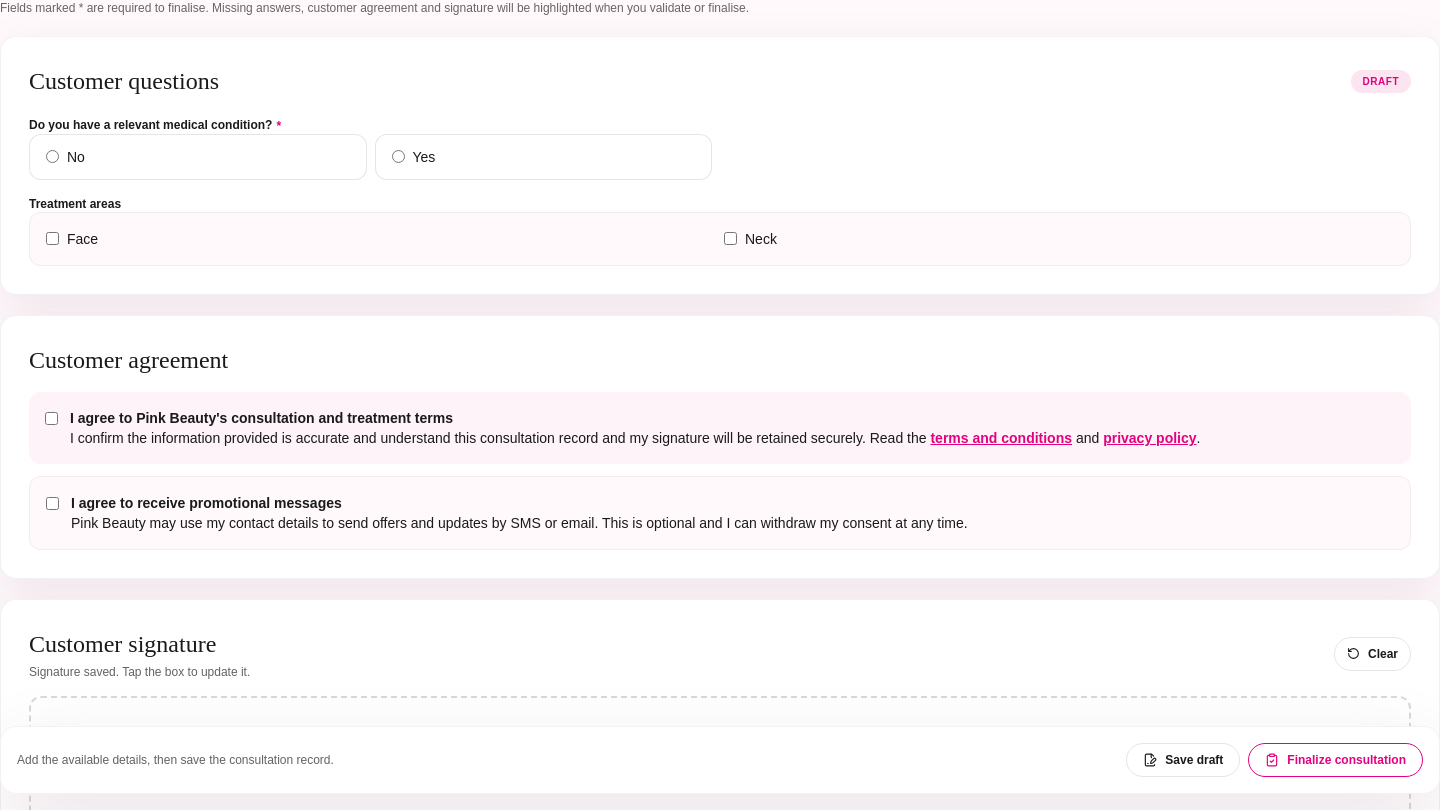
Test: consultation form touch controls › saves the selected answer in a client-section draft
The width and height of the screenshot is (1440, 810).
Click the text "Yes".
click(398, 157)  # box [374,134,712,180]
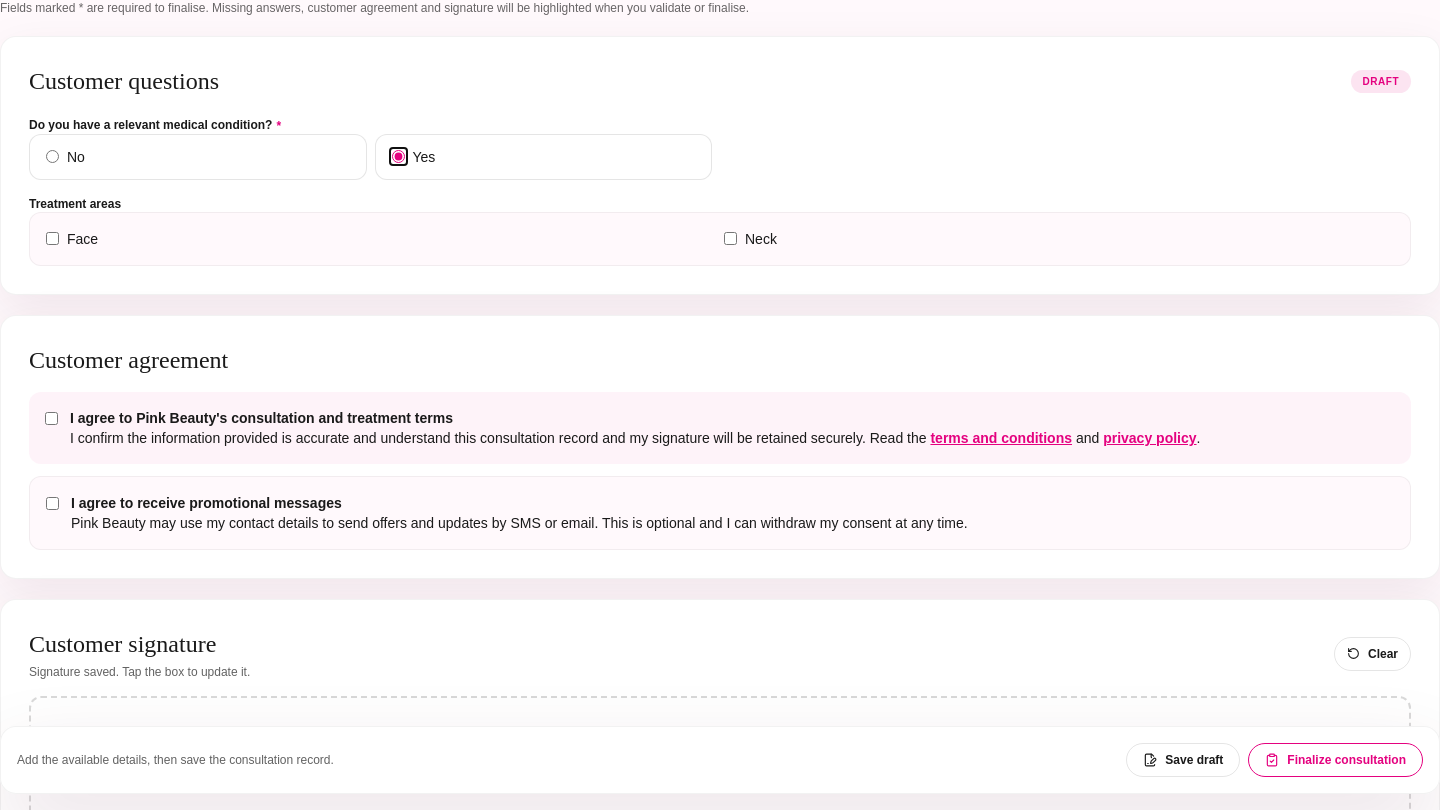
Click the checkbox labelled "consultation and treatment terms".
click(52, 418)  # box [45,412,58,425]
(page scrolled)
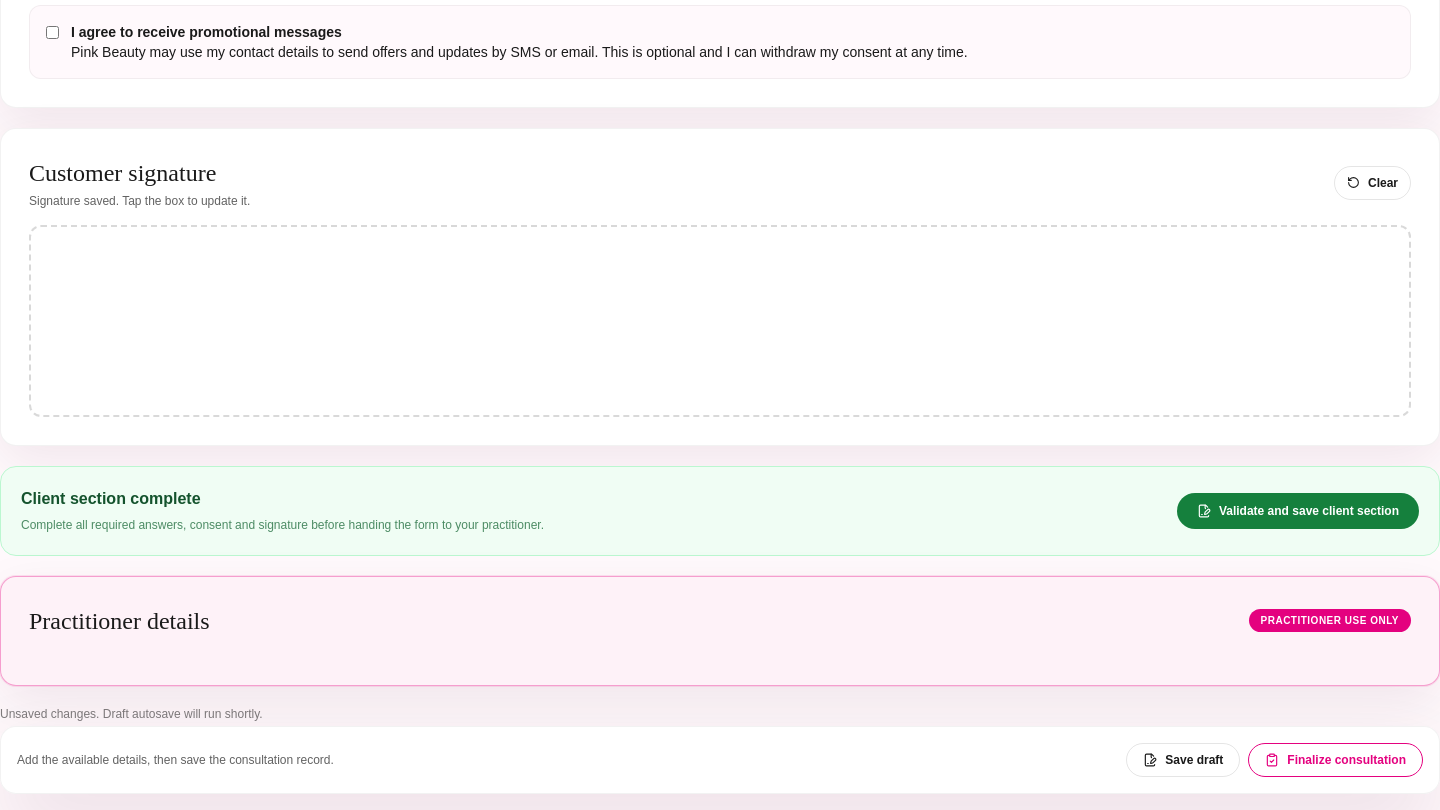
Click the button "Validate and save client section".
click(1298, 511)  # box [1177,493,1419,529]
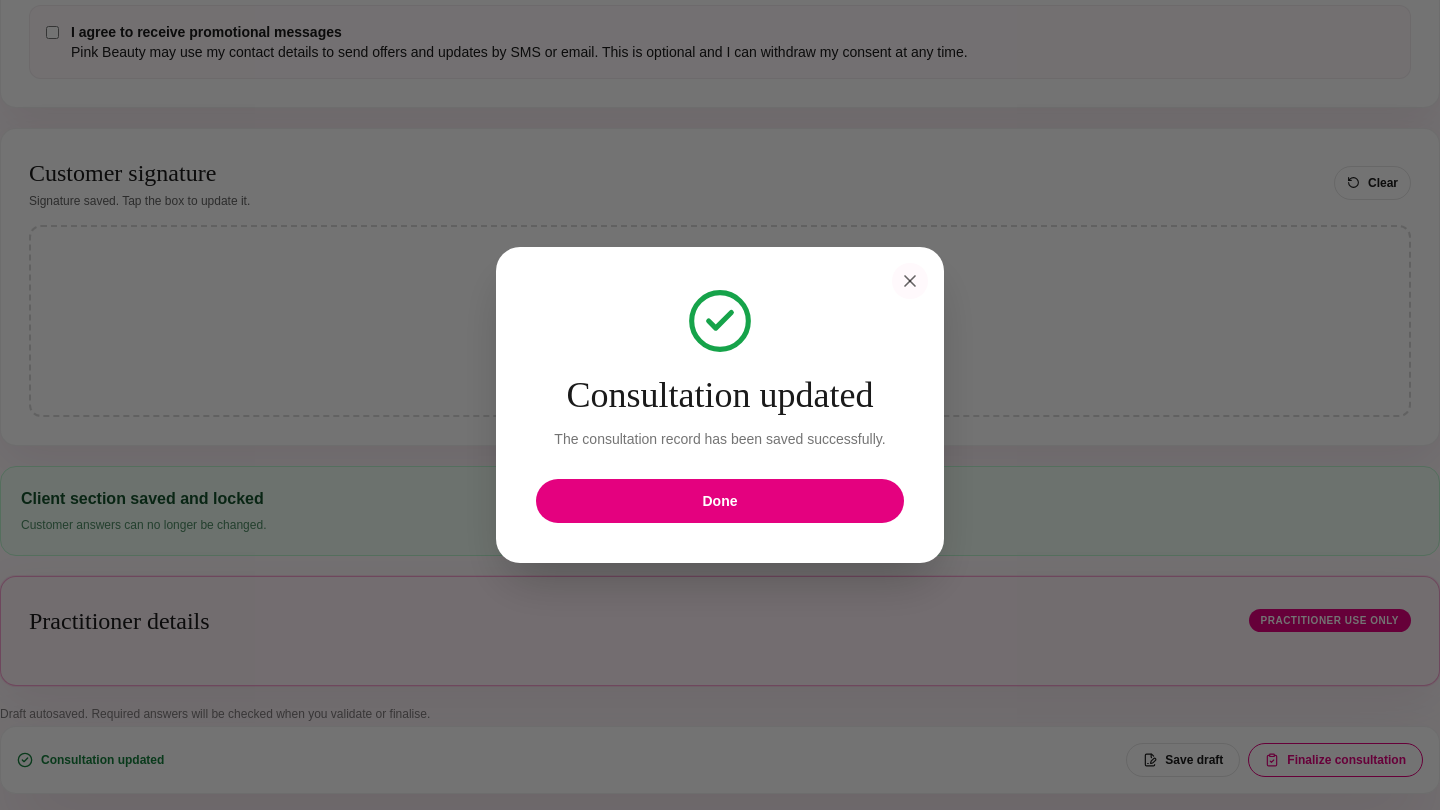
Now the button "Validate and save client section" is gone
Now the text "Client section saved and locked" is shown, box [21,487,266,511]
